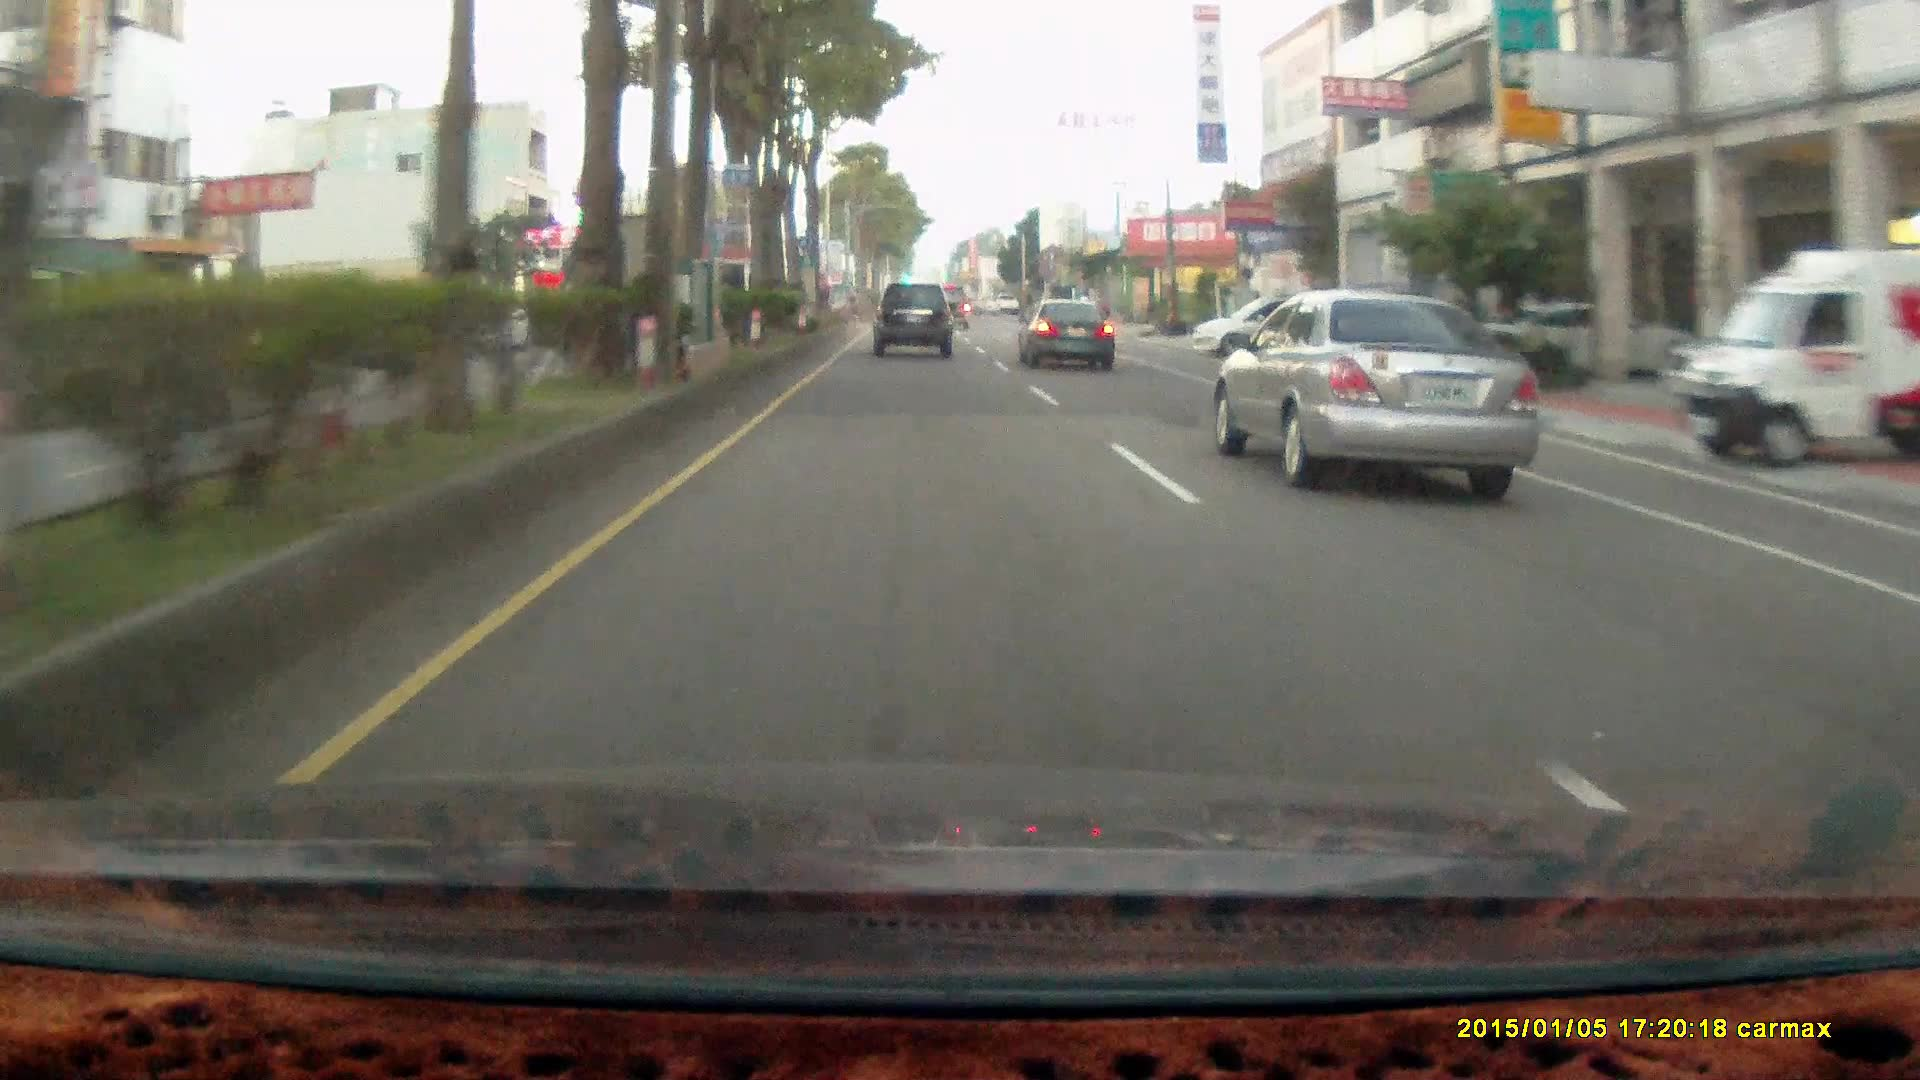vehicle: (1218, 291, 1545, 488), (1676, 251, 1920, 473), (1464, 301, 1700, 381), (1311, 285, 1466, 386), (1197, 302, 1357, 368), (1189, 295, 1345, 363), (1017, 297, 1120, 373), (1015, 295, 1114, 371), (873, 284, 956, 361), (872, 284, 952, 357)
